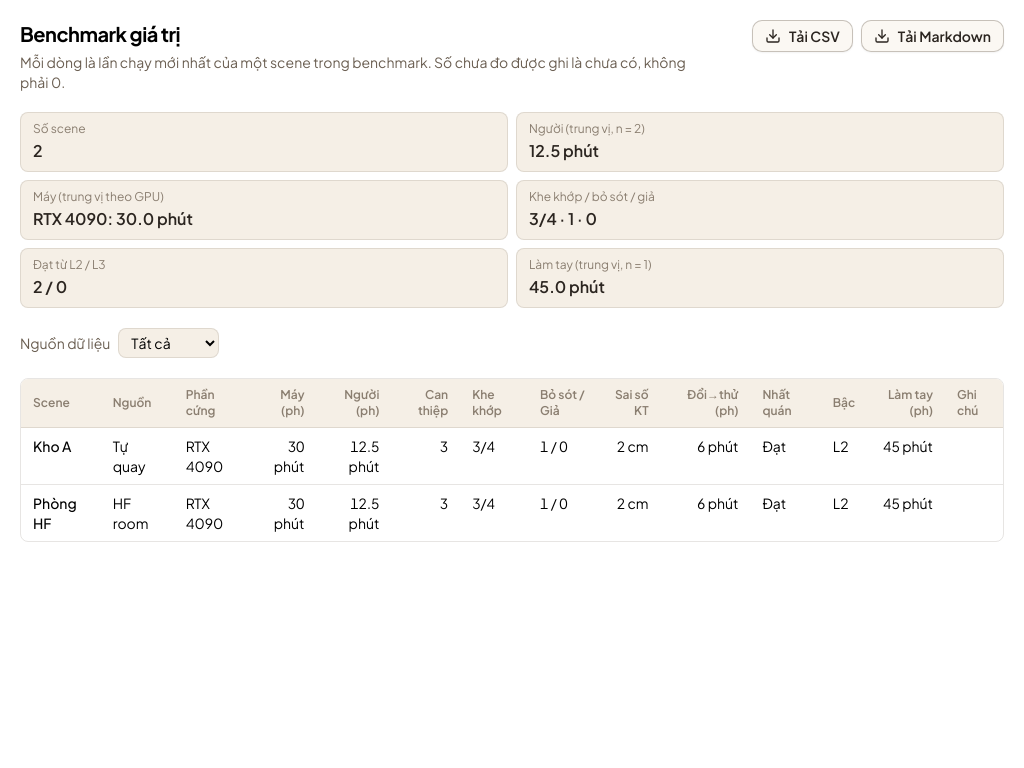
Test case: BenchmarkPage › lọc theo nguồn dữ liệu chỉ giữ scene đúng nguồn
Expected: the table is shown, [21,379,1003,541]
Select "HF room" in the dropdown labelled "Nguồn dữ liệu". click: (169, 343)
box: [118,328,219,358]
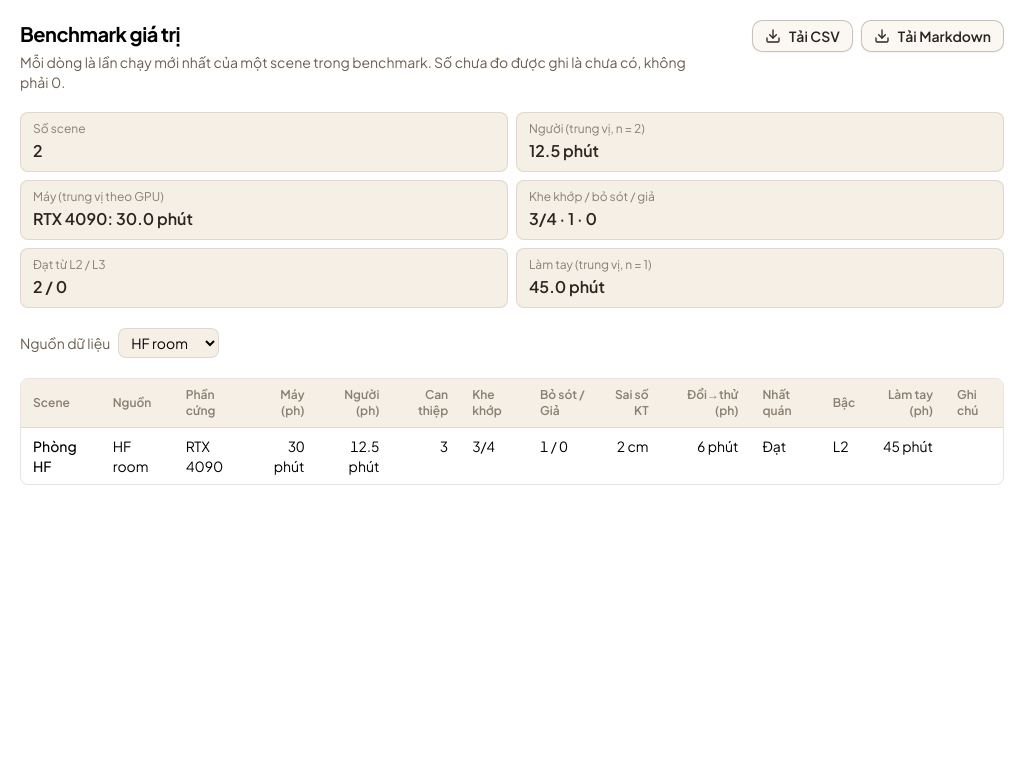
Expected: the link "Phòng HF" is shown, [33,437,77,475]
Now the link "Kho A" is gone
